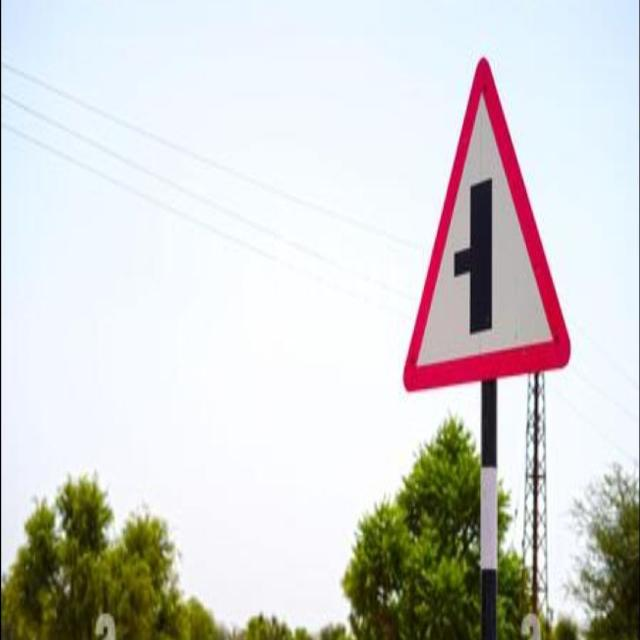Sideroad_toleft: (402, 61, 572, 400)
